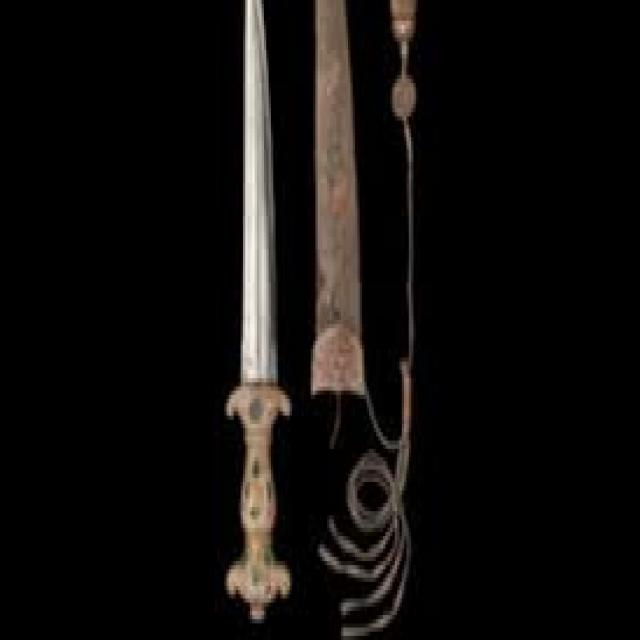Gun: (201, 0, 311, 632)
